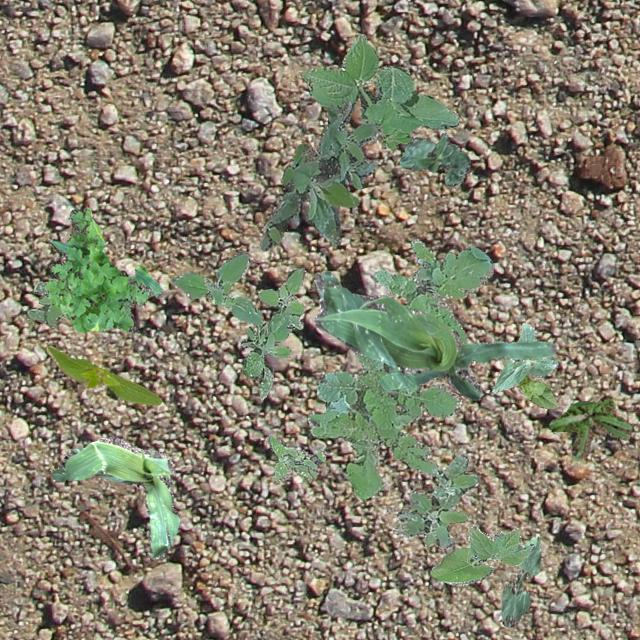crop: (312, 270, 556, 400), (50, 436, 178, 558), (46, 344, 160, 404), (429, 522, 534, 584), (490, 322, 558, 392), (398, 132, 469, 184), (500, 536, 540, 626), (502, 357, 558, 408)
weed: (306, 238, 492, 498), (170, 251, 304, 398), (258, 100, 380, 250), (300, 33, 458, 148), (44, 205, 162, 332), (392, 452, 478, 546), (548, 396, 632, 460), (266, 434, 324, 484), (26, 280, 64, 326)
